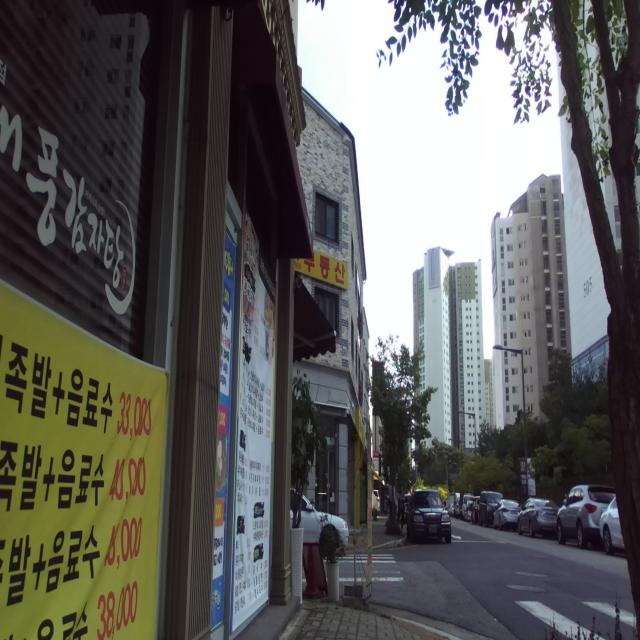횡단보도: (302, 554, 403, 581)
